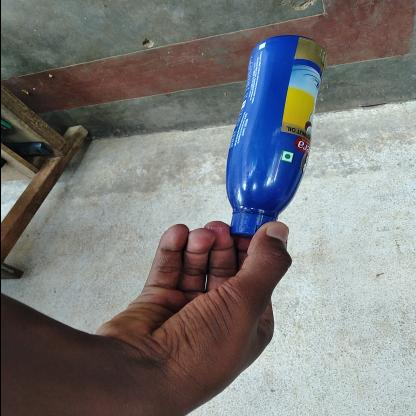bottle: (234, 271, 416, 350)
